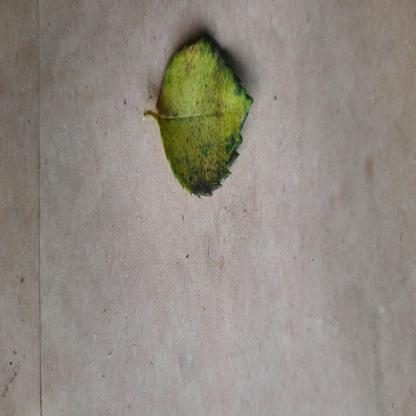black-spot: (155, 30, 255, 204)
